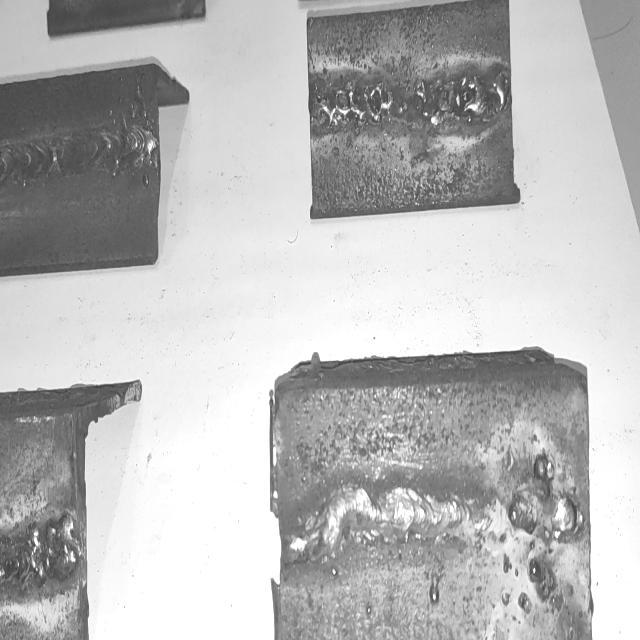Defect: (502, 436, 586, 632), (312, 68, 509, 132), (0, 518, 72, 594)
Welding Line: (280, 483, 468, 571), (0, 131, 156, 186)
Workpiece: (276, 385, 592, 640), (307, 0, 512, 221), (0, 65, 160, 273), (0, 410, 79, 640)
